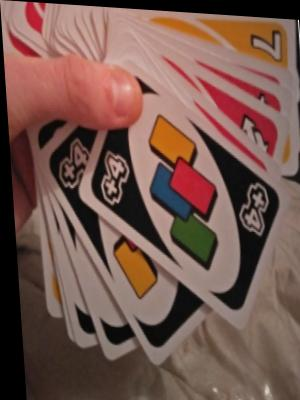num_7: (247, 13, 291, 65)
reverse: (237, 104, 274, 160)
wild-4: (76, 210, 168, 364)
